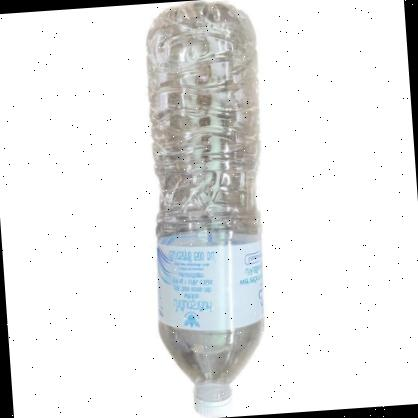bottle: (134, 0, 276, 418)
cap: (191, 384, 236, 418)
label: (152, 230, 268, 334)
